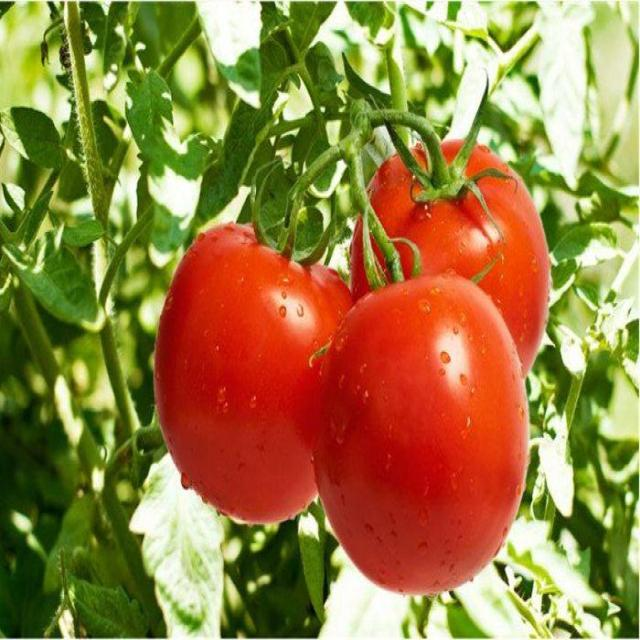level 6: (310, 269, 529, 597), (154, 220, 356, 527), (351, 140, 548, 398)
